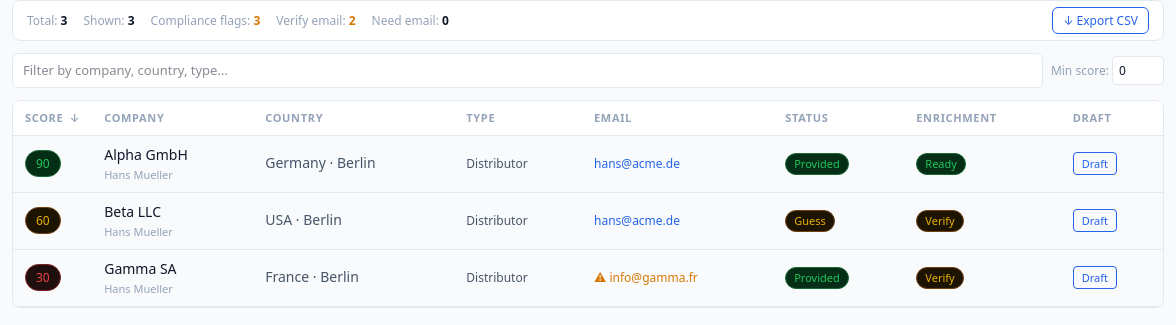
Scenario: LeadsTable › filters leads by text
The image size is (1176, 325).
Type "Alpha" into the field with placeholder "Filter by company, country, type…" at (527, 71), box [12,53,1043,88]
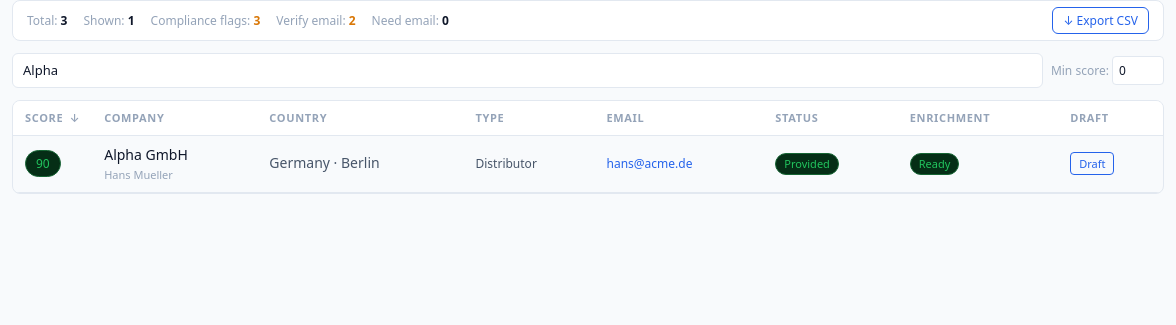
expect the text "Alpha GmbH" is shown: met, box [104,145,188,164]
expect the text "Beta LLC" is gone: met
